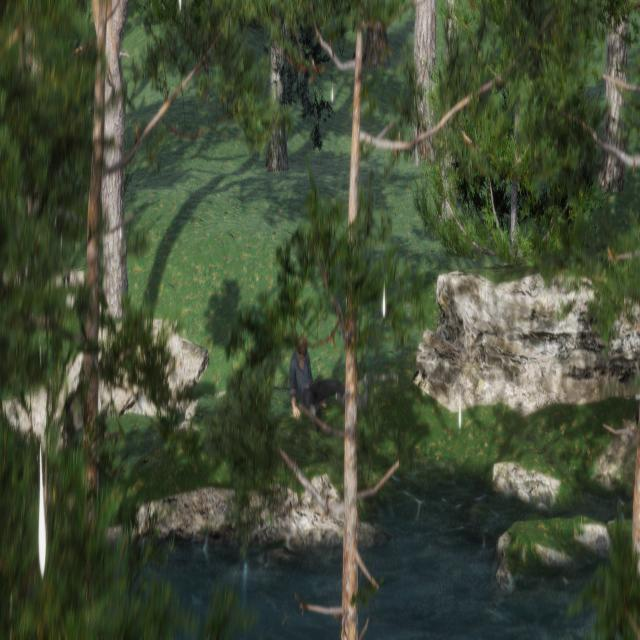Human: (283, 332, 347, 433)
